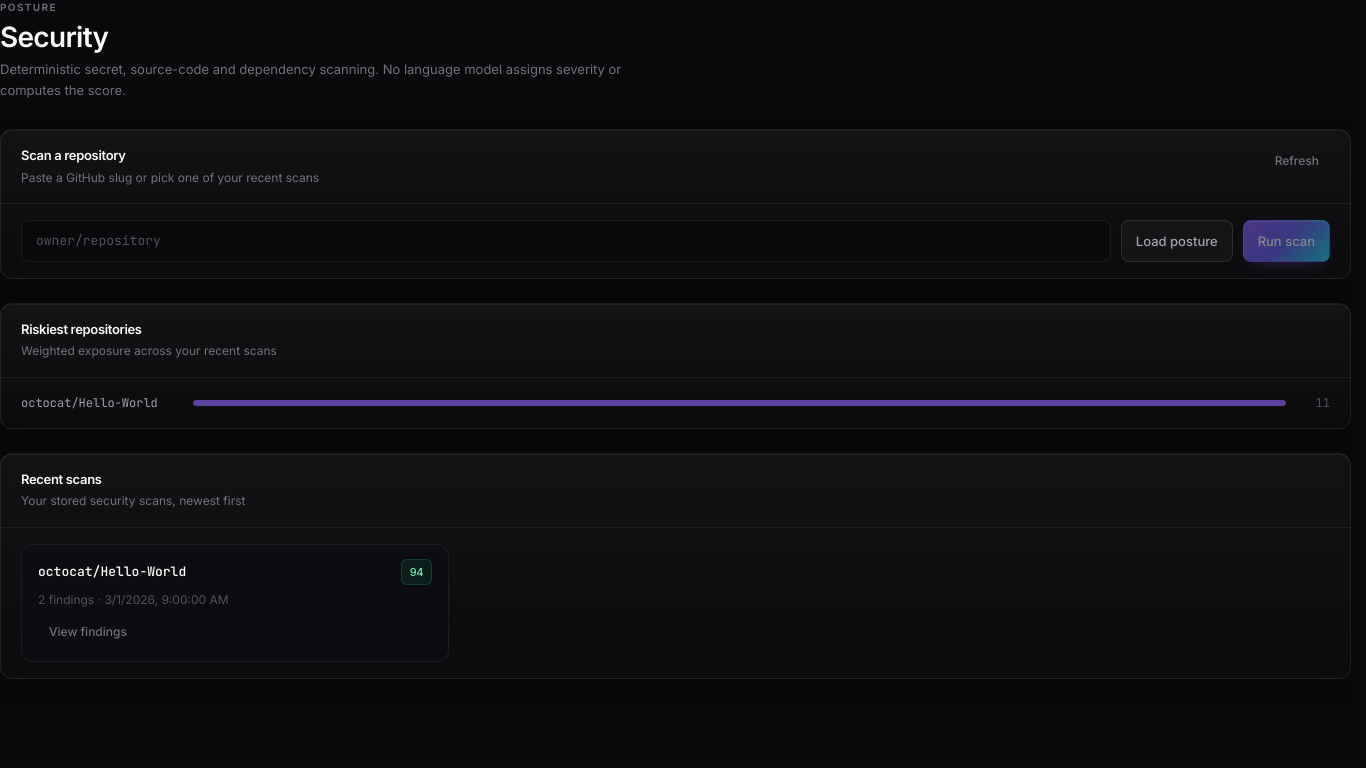
it: SecurityPage › loading a repository posture › shows an unscanned repository as a state, not an error
Type "octocat/Hello-World" into the field labelled "repository" at (566, 241), box x1=21 y1=220 x2=1111 y2=262
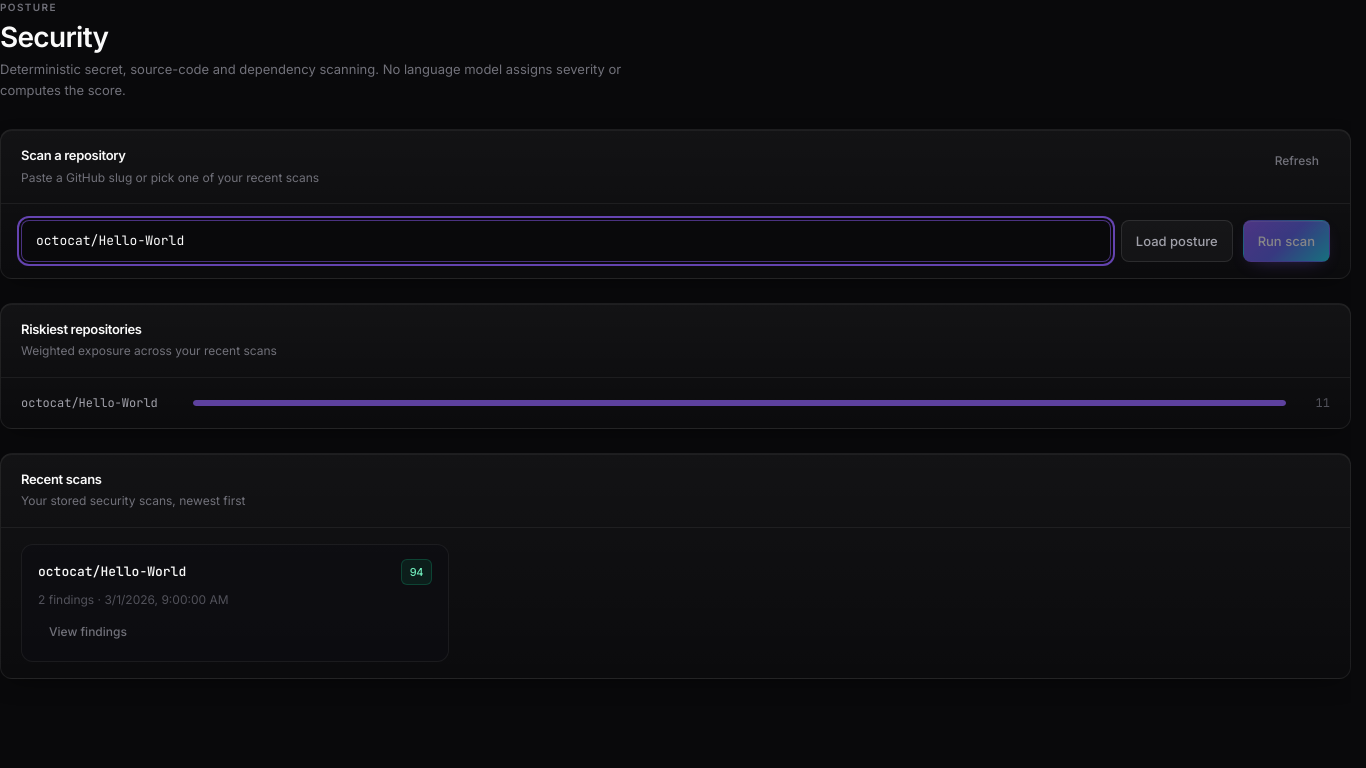
Click the button "Load posture" at (1177, 241), box x1=1121 y1=220 x2=1233 y2=262
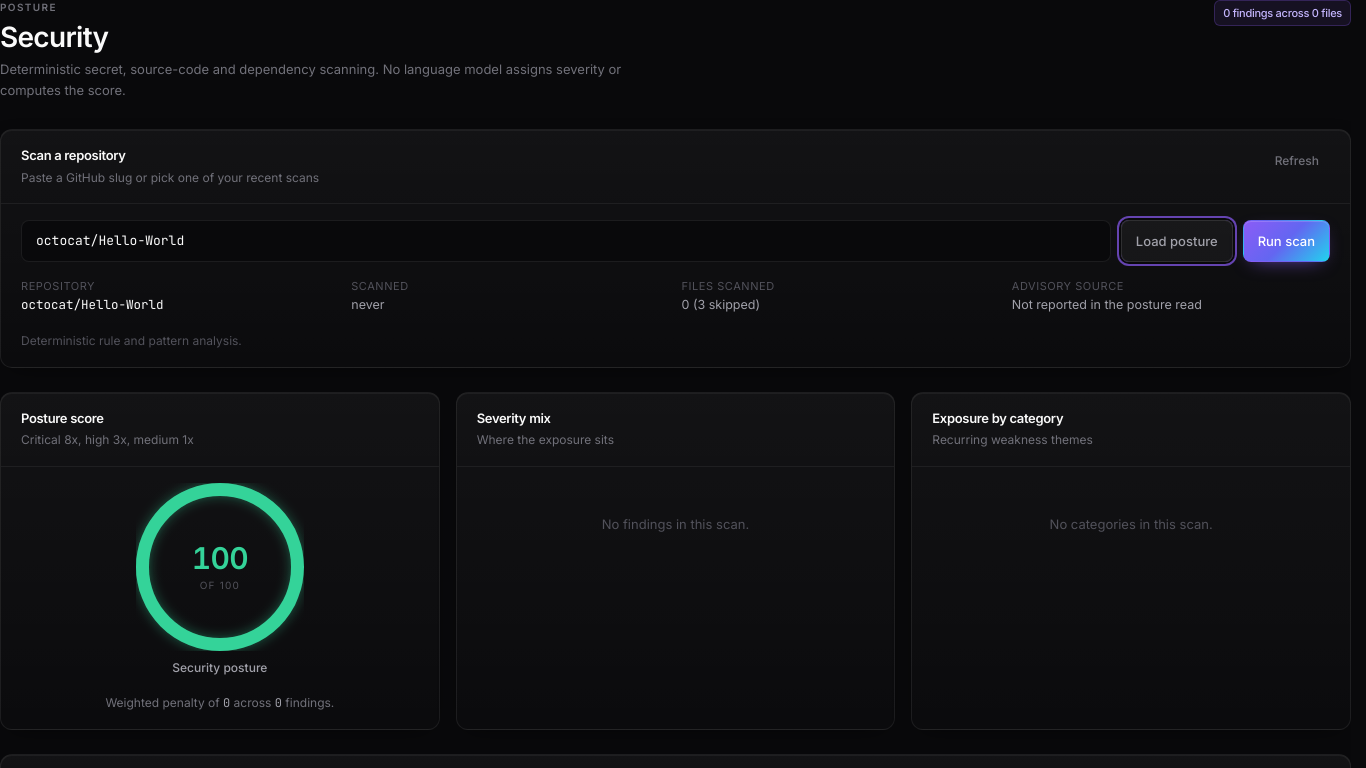
Check: the button "Run scan" is enabled, box x1=1243 y1=220 x2=1330 y2=262
